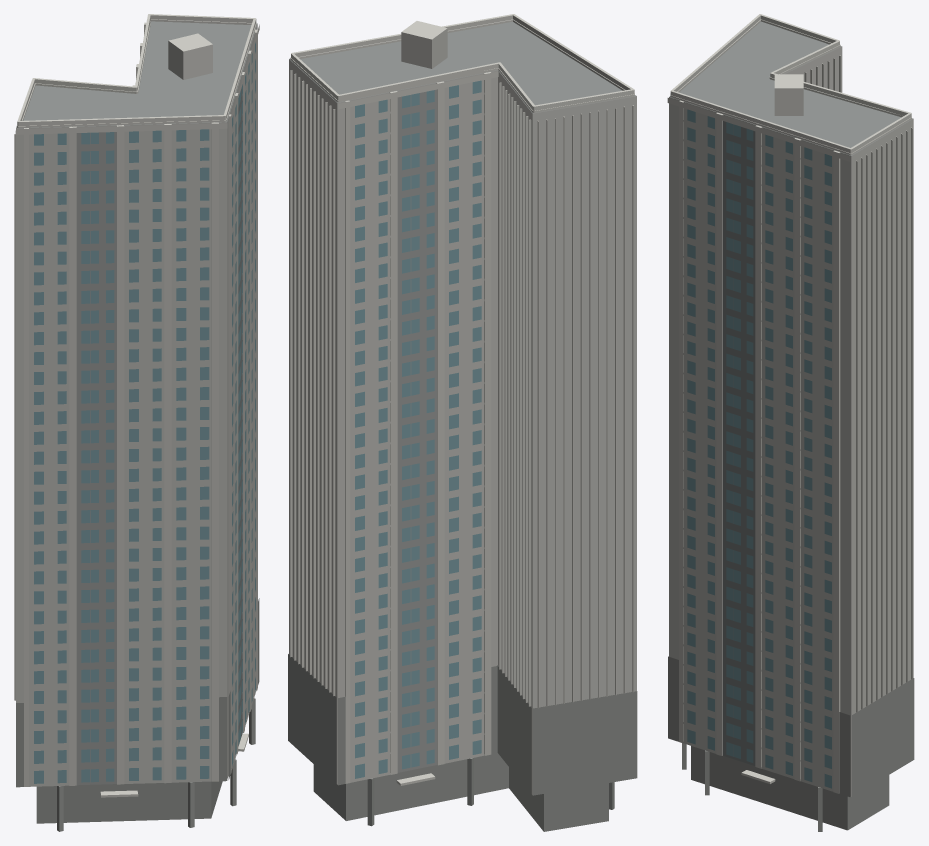
The model's file is maple-xi-213.glb.
The picture shows the model from 3 angles, left to right: view 1: azimuth 30°, elevation 25°; view 2: azimuth 150°, elevation 25°; view 3: azimuth 270°, elevation 25°; orthographic projection. The views are drawn at different scales.
Parts seen in each view (by area): view 1: maple-xi-213; view 2: maple-xi-213; view 3: maple-xi-213.
Boxes of the visible parts, x1=… form: maple-xi-213: x1=14, y1=14, x2=259, y2=831; maple-xi-213: x1=288, y1=14, x2=637, y2=831; maple-xi-213: x1=667, y1=14, x2=914, y2=831.
Size of the model in its own units: 47.07 by 113 by 35.6.
